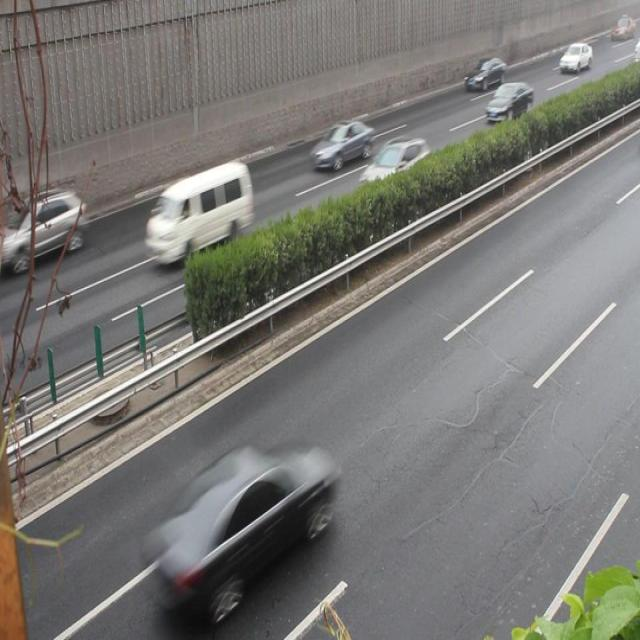car: (144, 443, 328, 593), (14, 189, 86, 261), (358, 136, 429, 202), (311, 118, 370, 170), (485, 81, 531, 122), (463, 56, 505, 90)
truck: (144, 163, 252, 262)
